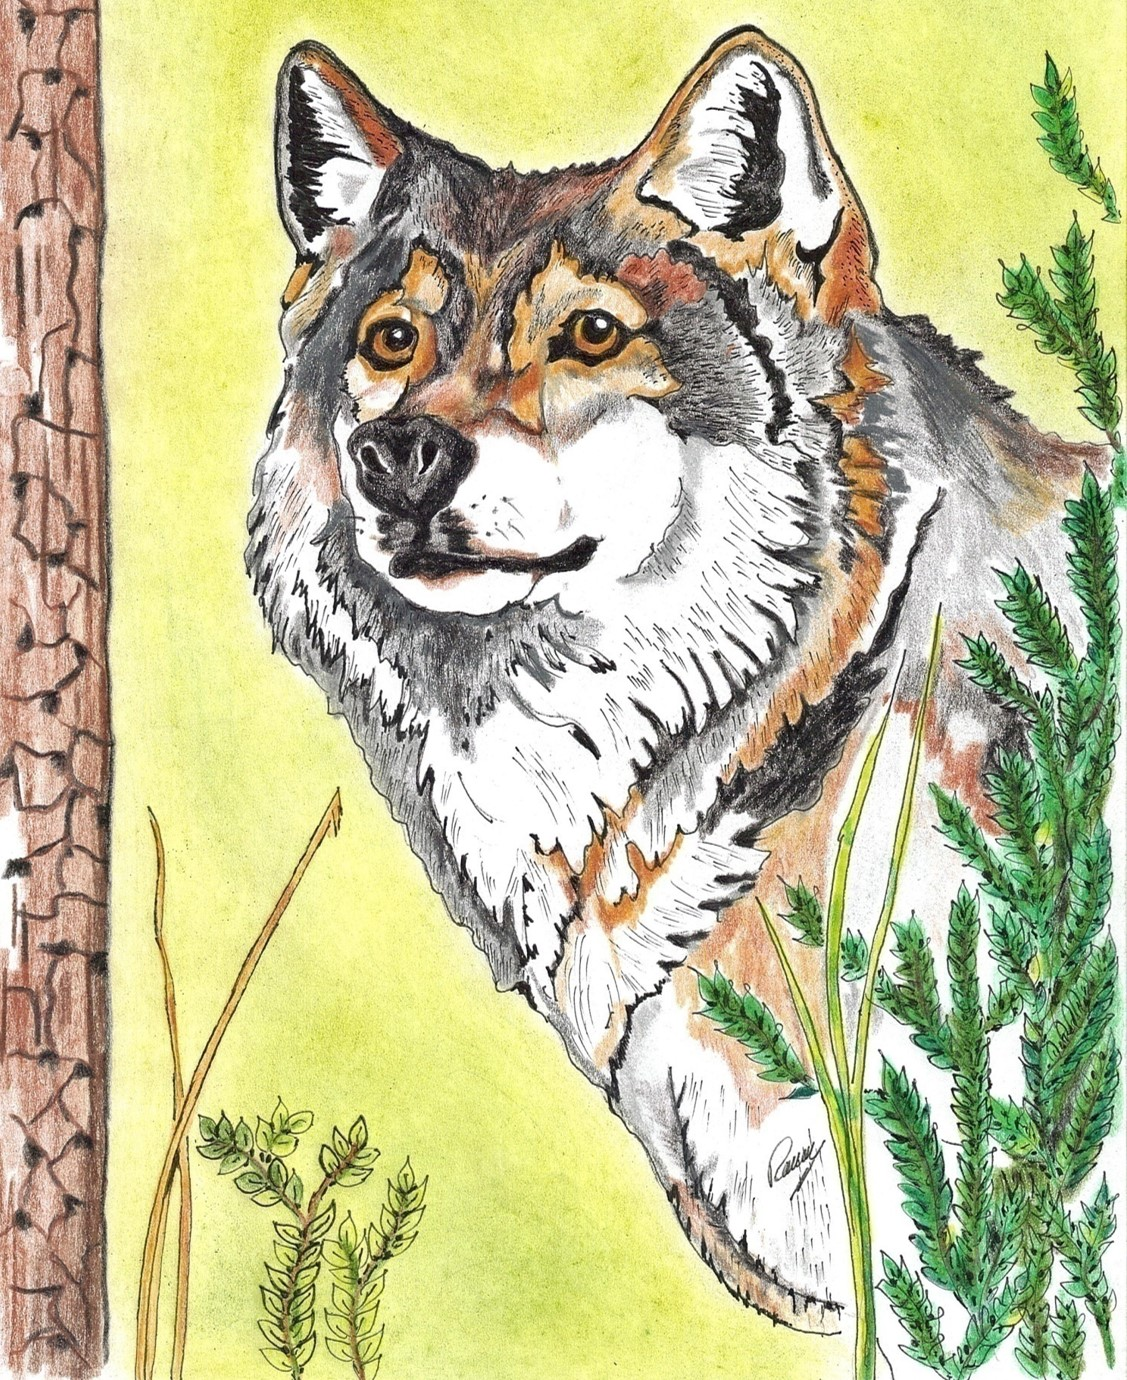Lobo: (122, 14, 1020, 1079)
